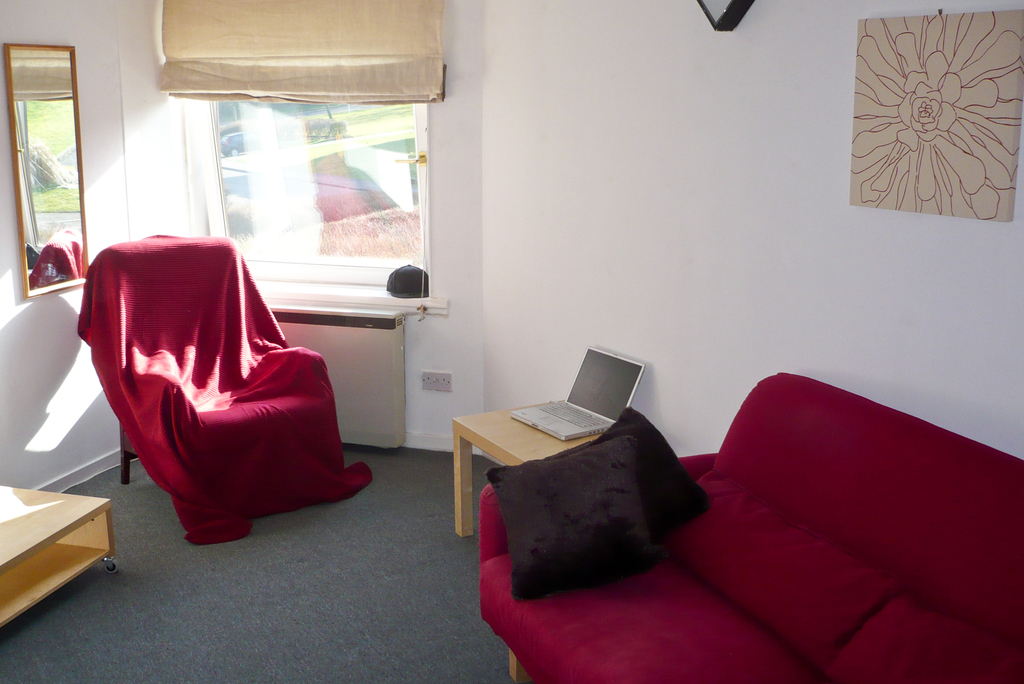Table: (0, 475, 116, 637)
